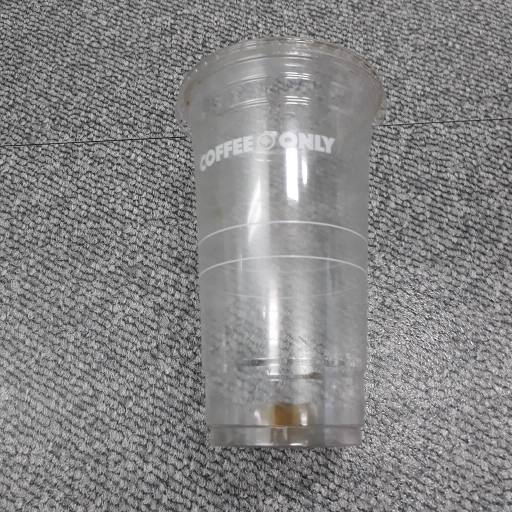Plastic_2: (174, 37, 393, 447)
